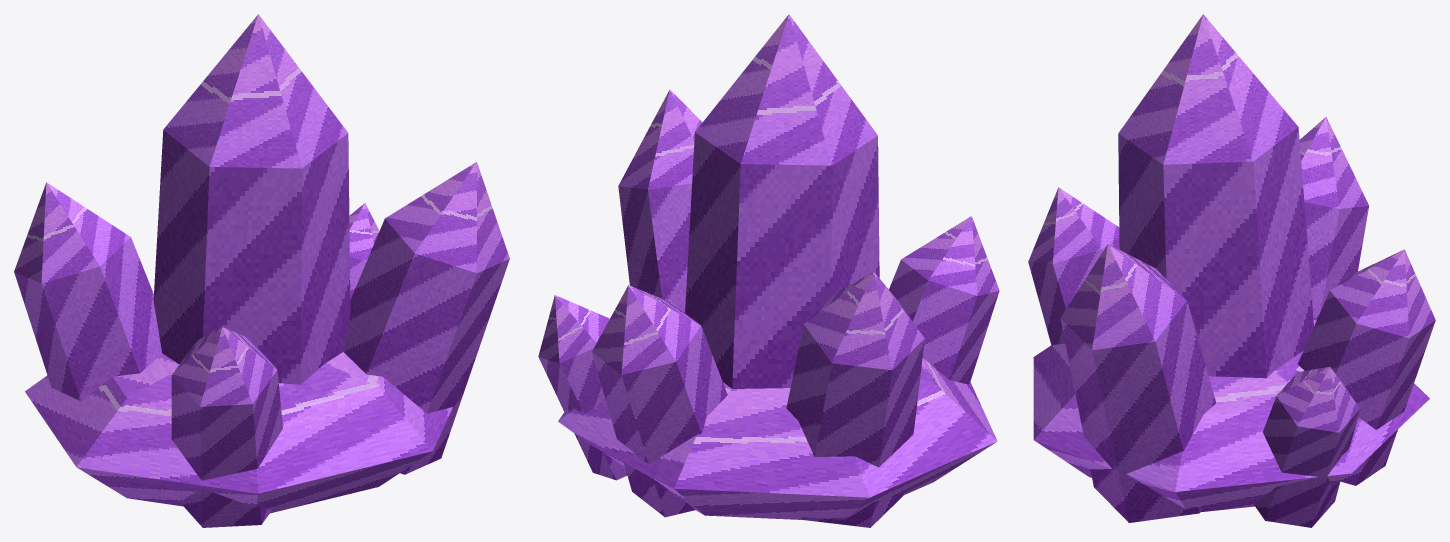
File: ruinas_cristal_de_ametista.glb
3 views of the same model, side by side, from view 1: azimuth 30°, elevation 25°; view 2: azimuth 150°, elevation 25°; view 3: azimuth 270°, elevation 25° (orthographic). The views are drawn at different scales.
Visible parts, largest first — view 1: ruinas_cristal_de_ametista; view 2: ruinas_cristal_de_ametista; view 3: ruinas_cristal_de_ametista.
Boxes of the visible parts, left/top/right/bottom form: ruinas_cristal_de_ametista: left=14, top=14, right=509, bottom=527; ruinas_cristal_de_ametista: left=538, top=14, right=999, bottom=527; ruinas_cristal_de_ametista: left=1028, top=14, right=1435, bottom=527.
Size of the model in its own units: 1.21 by 1.36 by 1.11.
1 material, 1 textured.
